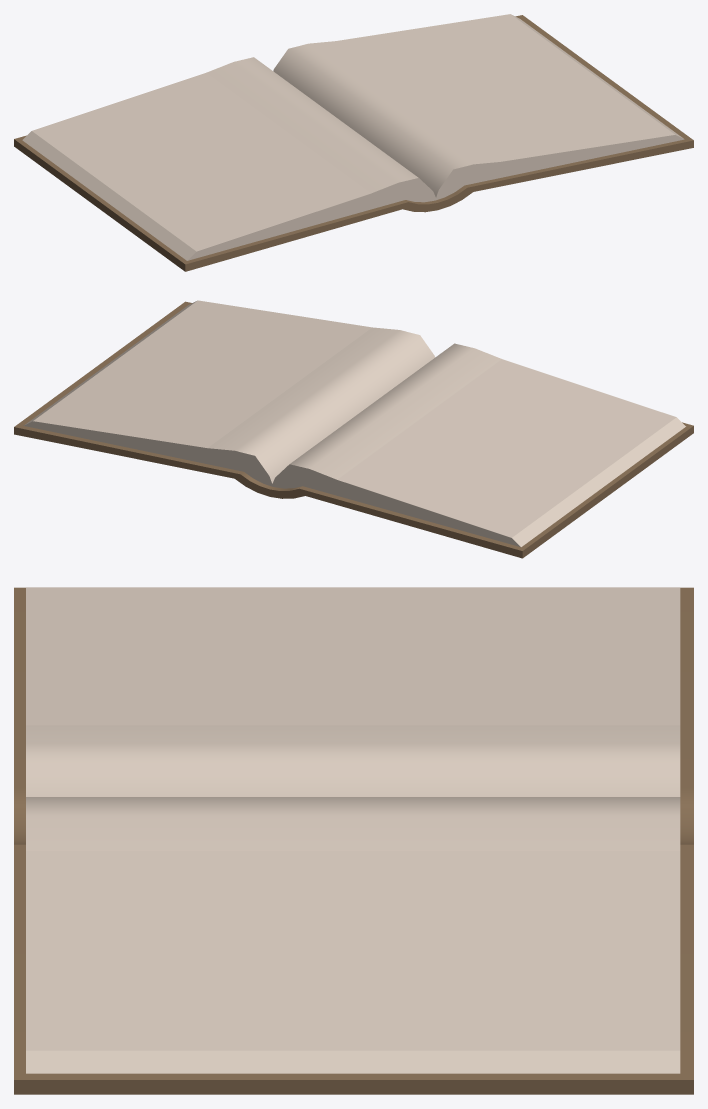
File: book.fbx
3 views of the same model, one above another, from view 1: azimuth 30°, elevation 25°; view 2: azimuth 150°, elevation 25°; view 3: azimuth 270°, elevation 25° (orthographic). The views are drawn at different scales.
Visible parts, largest first — view 1: pCube4, pCube3, pCube1; view 2: pCube4, pCube3, pCube1; view 3: pCube3, pCube4, pCube1.
Boxes of the visible parts, x1,y1,x2,y2 form: pCube4: (22, 57, 436, 260); pCube3: (273, 14, 684, 200); pCube1: (14, 15, 693, 271); pCube4: (272, 343, 685, 546); pCube3: (23, 300, 434, 486); pCube1: (14, 301, 693, 558); pCube3: (26, 797, 680, 1073); pCube4: (26, 587, 680, 796); pCube1: (14, 587, 693, 1094).
Size of what is drawn, in the model's own units: 18.55 by 1.2 by 10.83.
